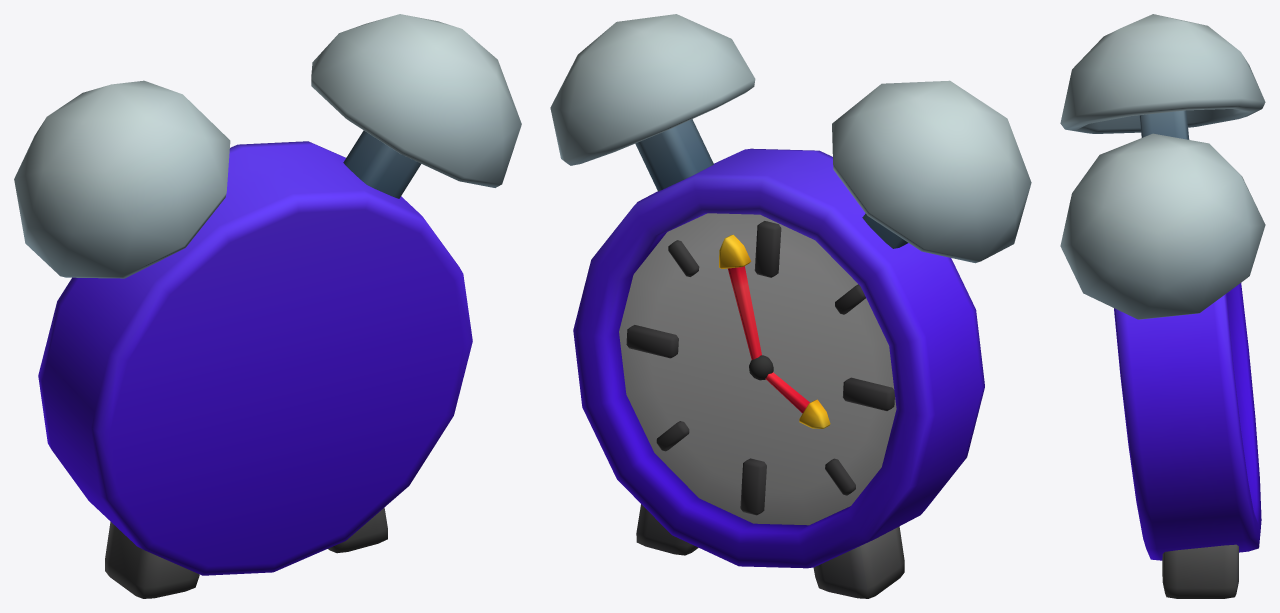
File: Relogio.fbx
3 views of the same model, side by side, from view 1: azimuth 30°, elevation 25°; view 2: azimuth 150°, elevation 25°; view 3: azimuth 270°, elevation 25° (orthographic). The views are drawn at different scales.
Visible parts, largest first — view 1: Cylinder.050; view 2: Cylinder.050; view 3: Cylinder.050.
Part boxes in pixels (left/top/right/bottom): Cylinder.050: left=14, top=14, right=521, bottom=598; Cylinder.050: left=550, top=14, right=1031, bottom=598; Cylinder.050: left=1060, top=14, right=1265, bottom=598.
Size of the model in its own units: 135 by 140 by 56.26.
